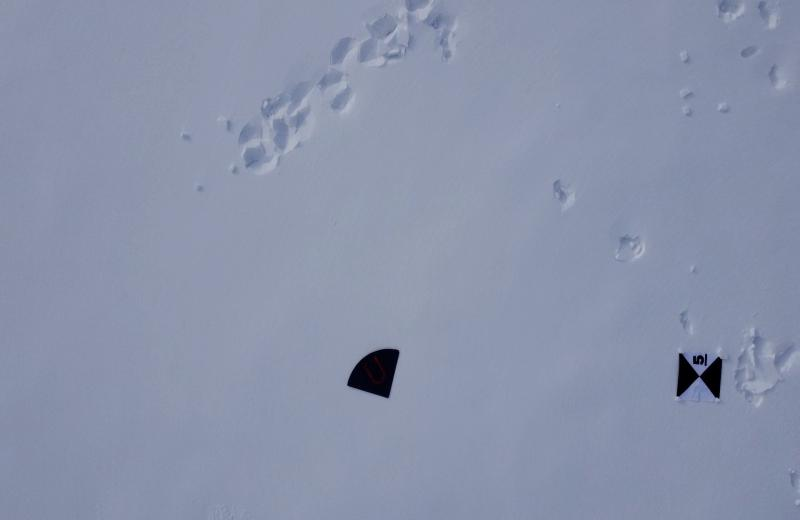Quarter Circle: (346, 345, 402, 401)
